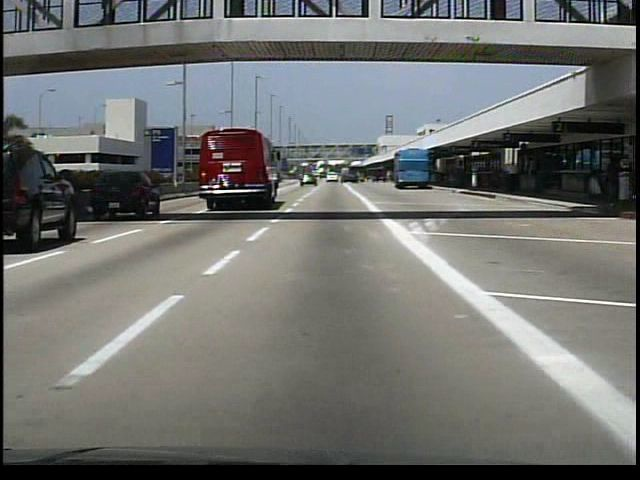person: (510, 160, 523, 192)
